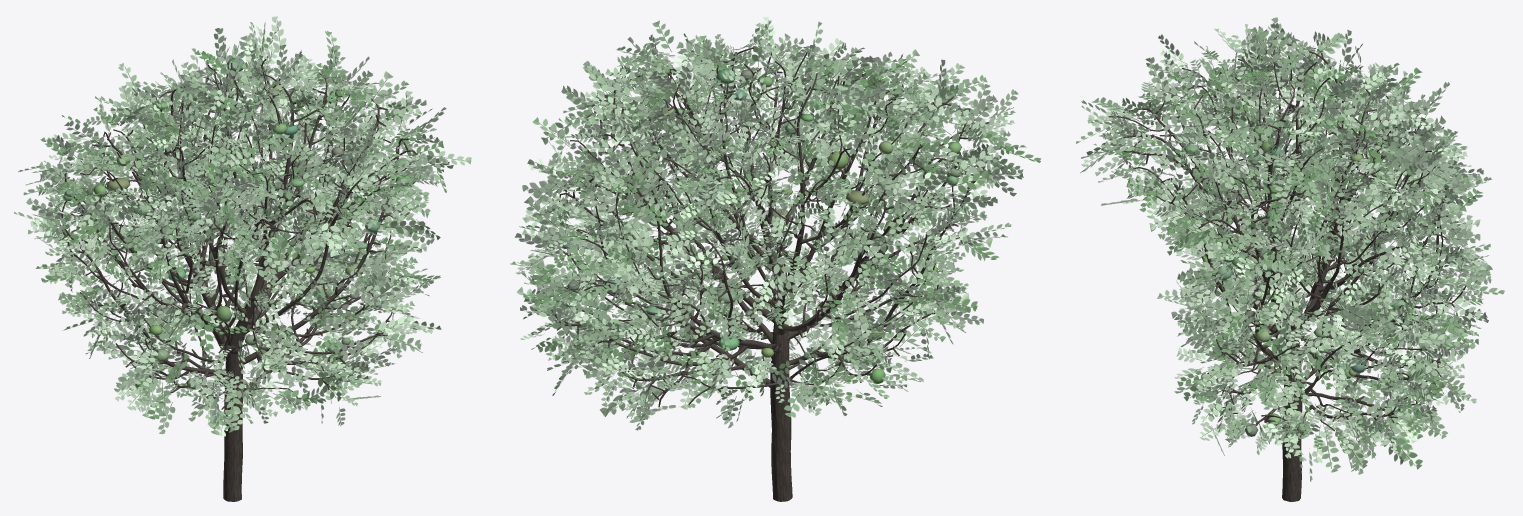
File: tree_54_camphor.glb
3 renders of one model, left to right at view 1: azimuth 30°, elevation 25°; view 2: azimuth 150°, elevation 25°; view 3: azimuth 270°, elevation 25°, orthographic. The views are drawn at different scales.
Visible parts, largest first — view 1: tree_54_camphor.leaves, tree_54_camphor.trunk_branches, tree_54_camphor.foliage_volume; view 2: tree_54_camphor.leaves, tree_54_camphor.trunk_branches, tree_54_camphor.foliage_volume; view 3: tree_54_camphor.leaves, tree_54_camphor.trunk_branches, tree_54_camphor.foliage_volume.
Boxes of the visible parts, <box> form: tree_54_camphor.leaves: <box>14,16,471,436</box>; tree_54_camphor.trunk_branches: <box>59,59,419,501</box>; tree_54_camphor.foliage_volume: <box>63,58,416,389</box>; tree_54_camphor.leaves: <box>510,16,1040,430</box>; tree_54_camphor.trunk_branches: <box>550,46,989,501</box>; tree_54_camphor.foliage_volume: <box>561,68,961,383</box>; tree_54_camphor.leaves: <box>1076,17,1504,481</box>; tree_54_camphor.trunk_branches: <box>1108,49,1466,501</box>; tree_54_camphor.foliage_volume: <box>1184,54,1442,436</box>.
Bounding box in the file's own units: 11.75 × 11.92 × 10.19.
Materials: 3 (2 with a texture image).
